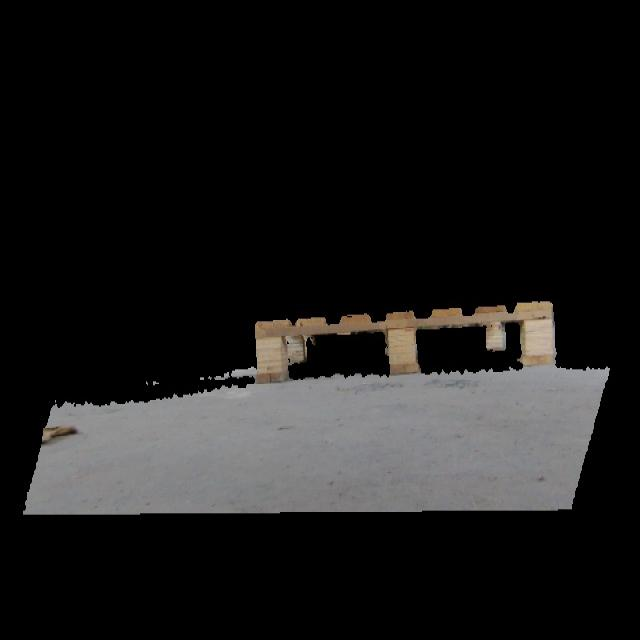block: (252, 319, 288, 386), (520, 305, 558, 366), (384, 315, 421, 374), (481, 317, 508, 354)
front: (246, 302, 557, 386)
